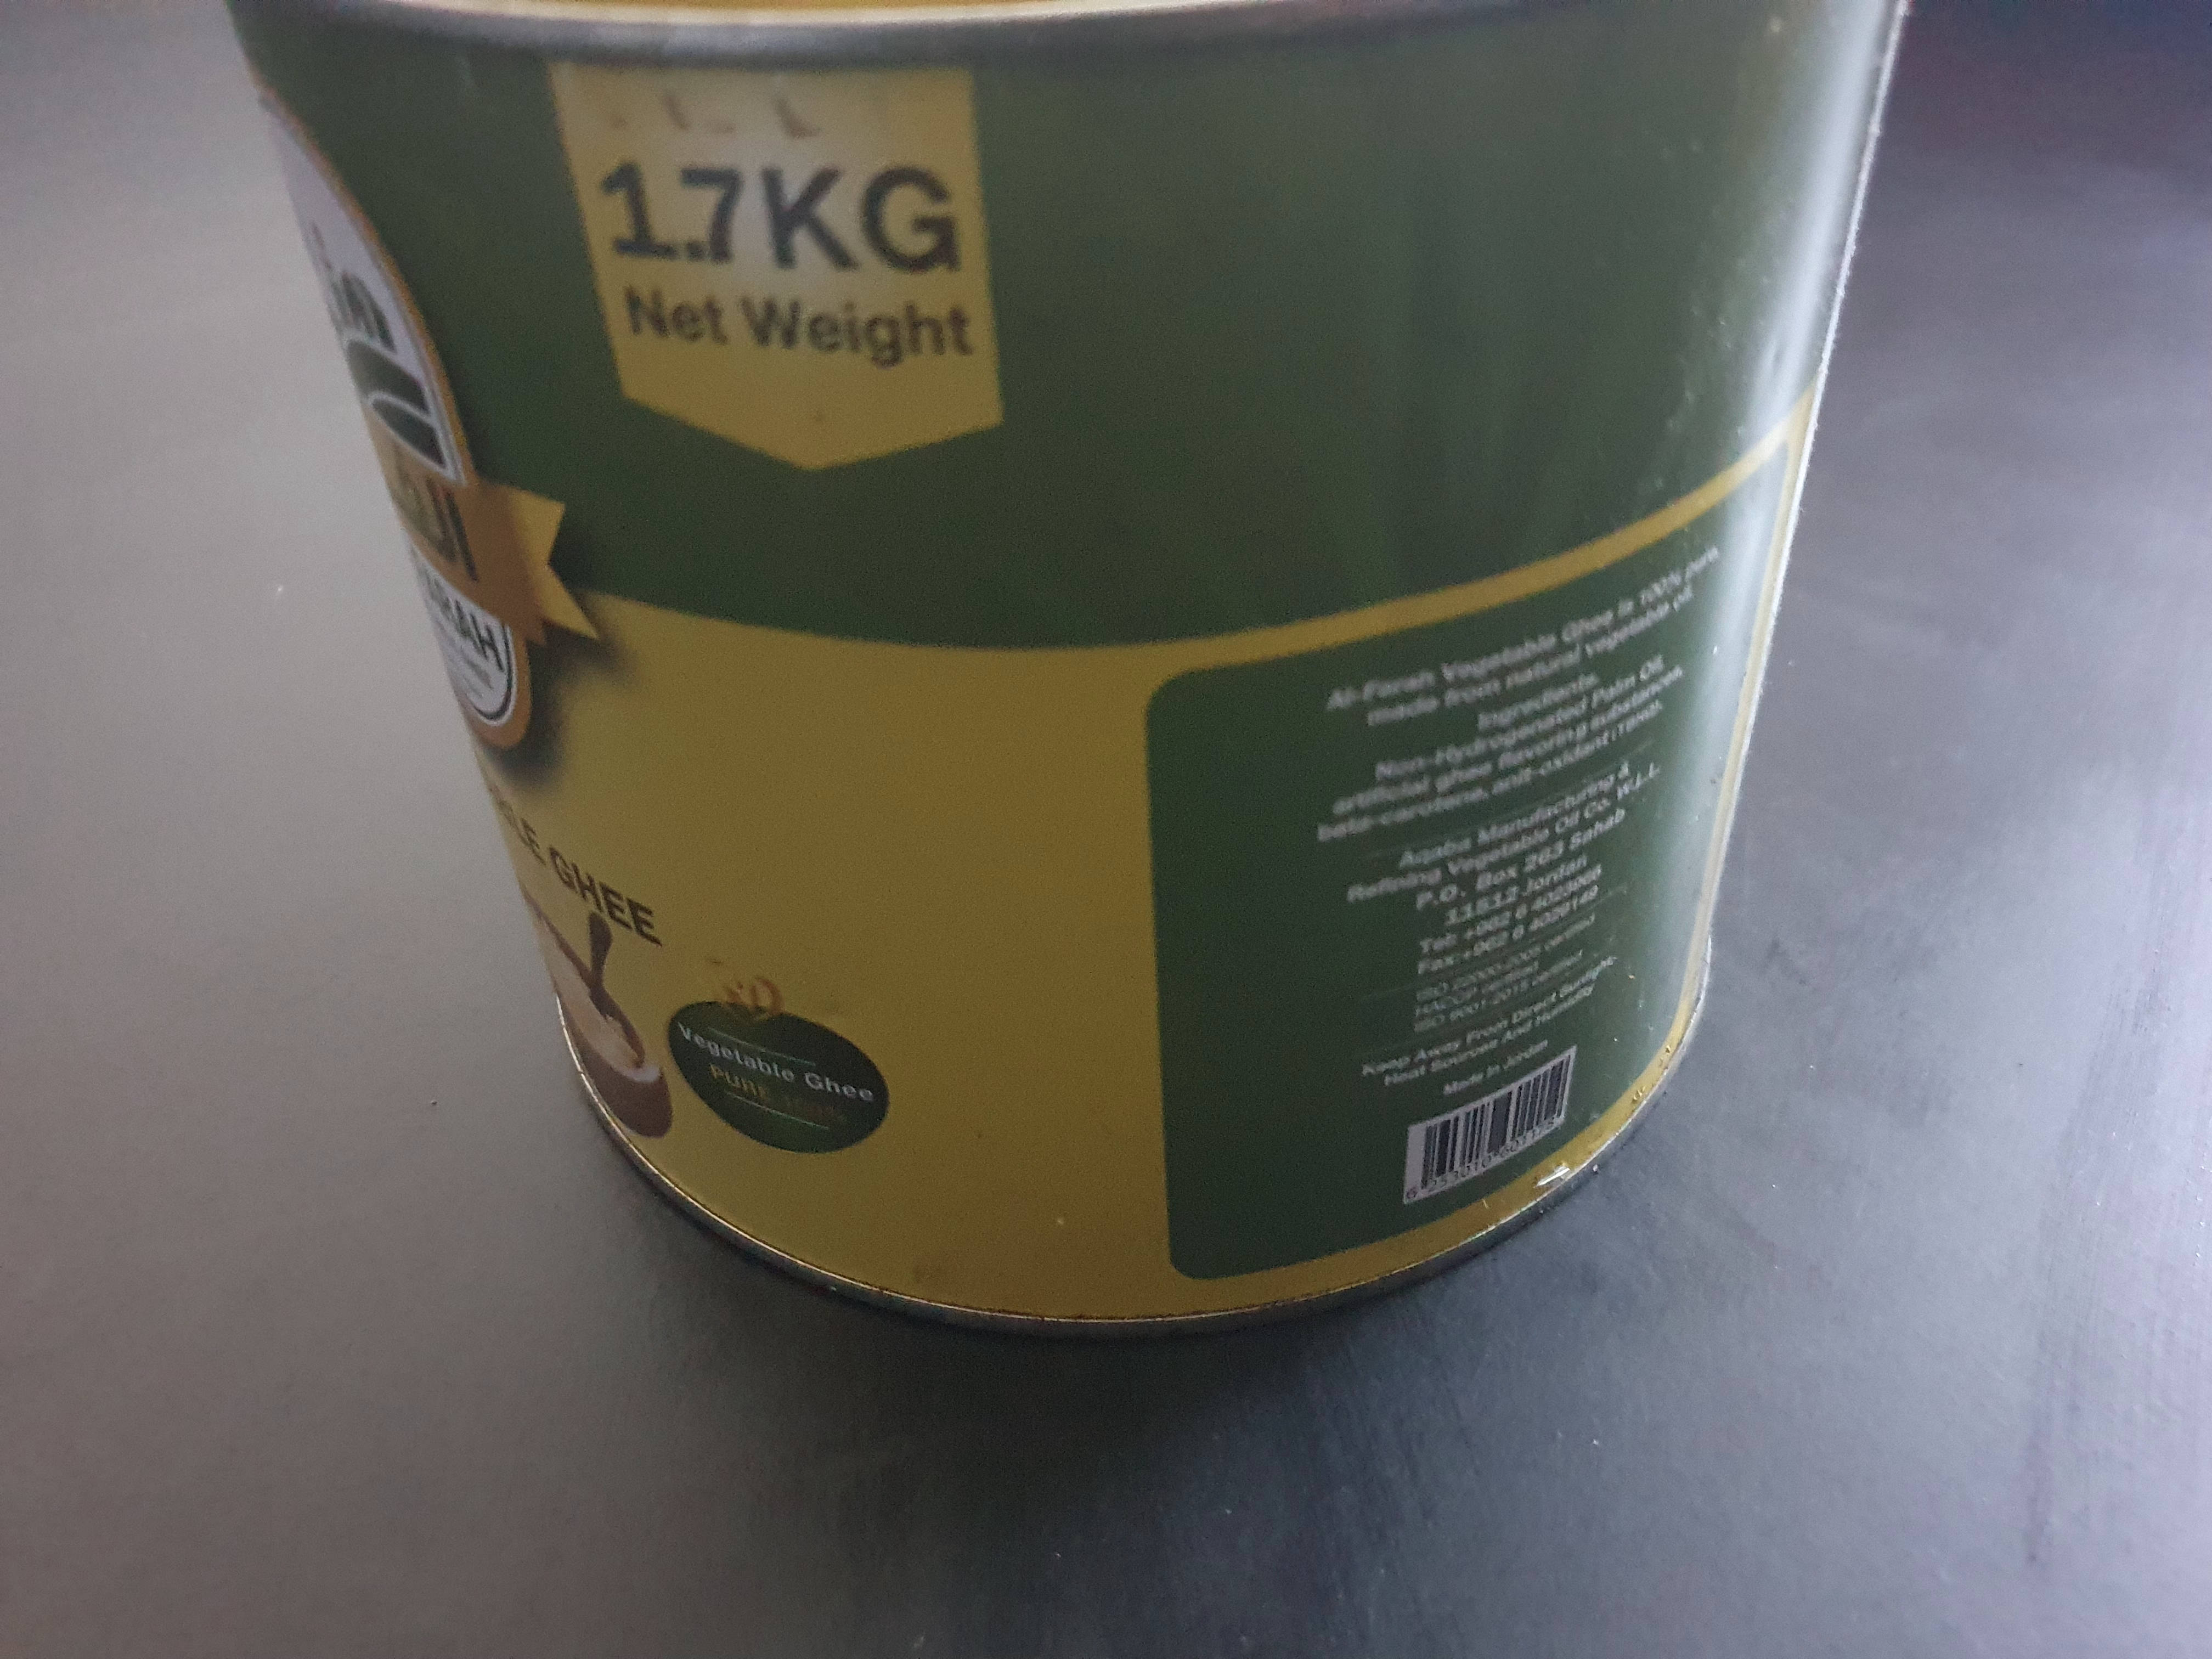metal: (197, 0, 1966, 1432)
